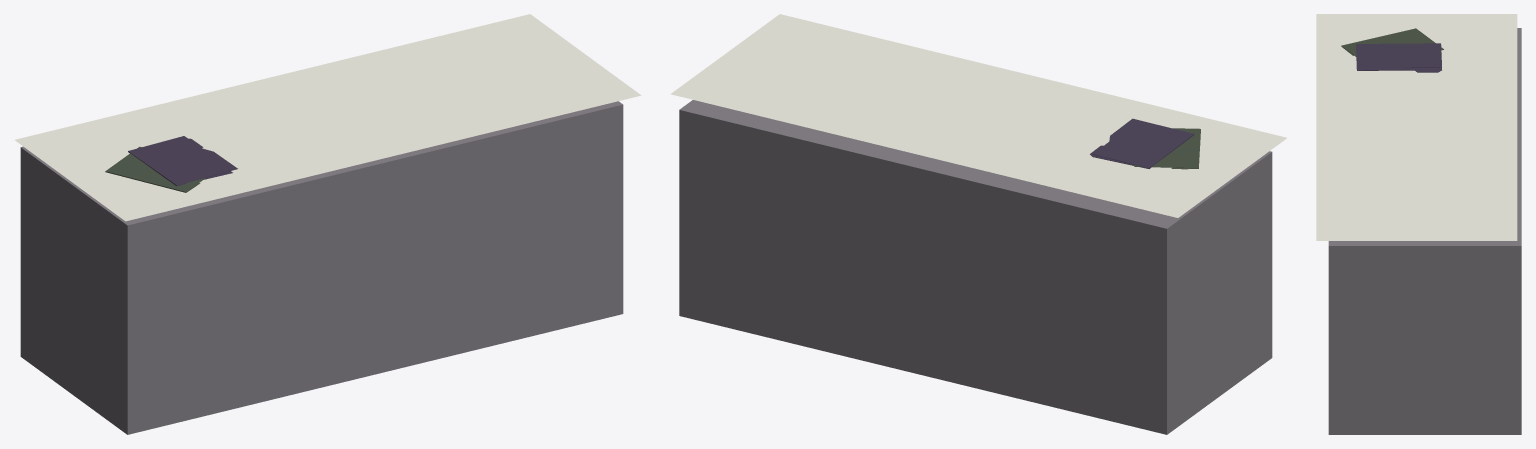
The model's file is other_table.glb.
3 views of the same model, side by side, from view 1: azimuth 30°, elevation 25°; view 2: azimuth 150°, elevation 25°; view 3: azimuth 270°, elevation 25° (orthographic). The views are drawn at different scales.
Parts seen in each view (by area): view 1: CounterTop.004; view 2: CounterTop.004; view 3: CounterTop.004.
Boxes of the visible parts, left/top/right/bottom form: CounterTop.004: left=15, top=14, right=641, bottom=434; CounterTop.004: left=670, top=14, right=1286, bottom=434; CounterTop.004: left=1316, top=14, right=1521, bottom=434.
Size of the model in its own units: 2.48 by 1.03 by 0.9495.
1 material, 1 textured.
